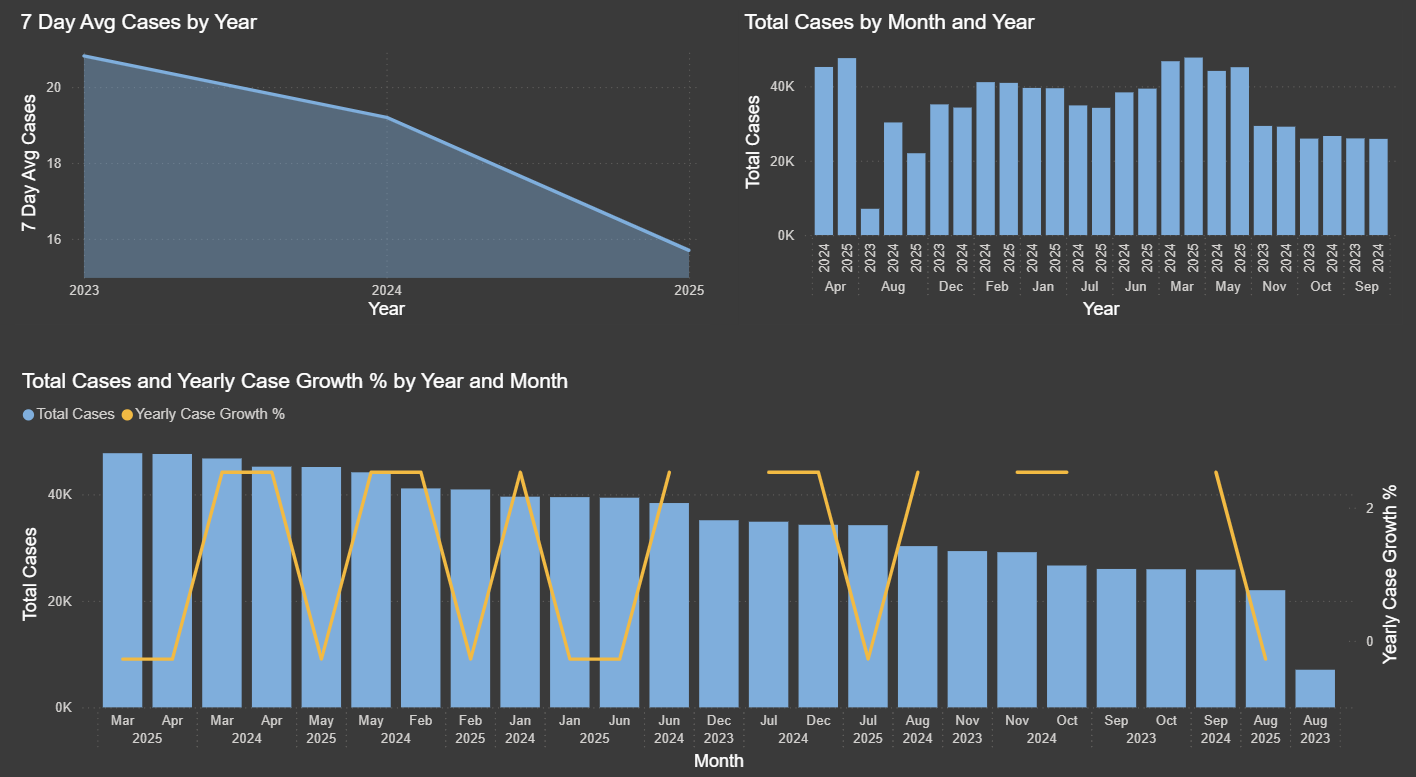

This screenshot's page, from the dashboard's own definition file:
{"tool":"powerbi","page":{"name":"Page 2","canvas":[1280,720],"ordinal":1},"visuals":[{"type":"areaChart","fields":{"Category":["zoonotic_disease_data_20250823_150248.Year"],"Y":["zoonotic_disease_data_20250823_150248.7 Day Avg Cases"]},"box":[18,14.1,619.4,280.2],"z":0},{"type":"clusteredColumnChart","fields":{"Y":["zoonotic_disease_data_20250823_150248.Total Cases"],"Category":["zoonotic_disease_data_20250823_150248.Month","zoonotic_disease_data_20250823_150248.Year"]},"box":[662.9,14.3,591.4,280],"z":1000},{"type":"lineStackedColumnComboChart","fields":{"Y2":["zoonotic_disease_data_20250823_150248.Yearly Case Growth %"],"Y":["zoonotic_disease_data_20250823_150248.Total Cases"],"Category":["zoonotic_disease_data_20250823_150248.Year","zoonotic_disease_data_20250823_150248.Month"]},"box":[18.6,334.3,1237.1,362.9],"z":2000}]}

Visuals, with their boxes in screenshot pixels (x1, y1, x2, y2), scaled from the page's 1280x720 canvas onto the 1416x777 screenshot:
areaChart - zoonotic_disease_data_20250823_150248.Year x zoonotic_disease_data_20250823_150248.7 Day Avg Cases: rect(20, 15, 705, 318)
clusteredColumnChart - zoonotic_disease_data_20250823_150248.Total Cases x zoonotic_disease_data_20250823_150248.Month: rect(733, 15, 1388, 318)
lineStackedColumnComboChart - zoonotic_disease_data_20250823_150248.Yearly Case Growth % x zoonotic_disease_data_20250823_150248.Total Cases: rect(21, 361, 1389, 752)
